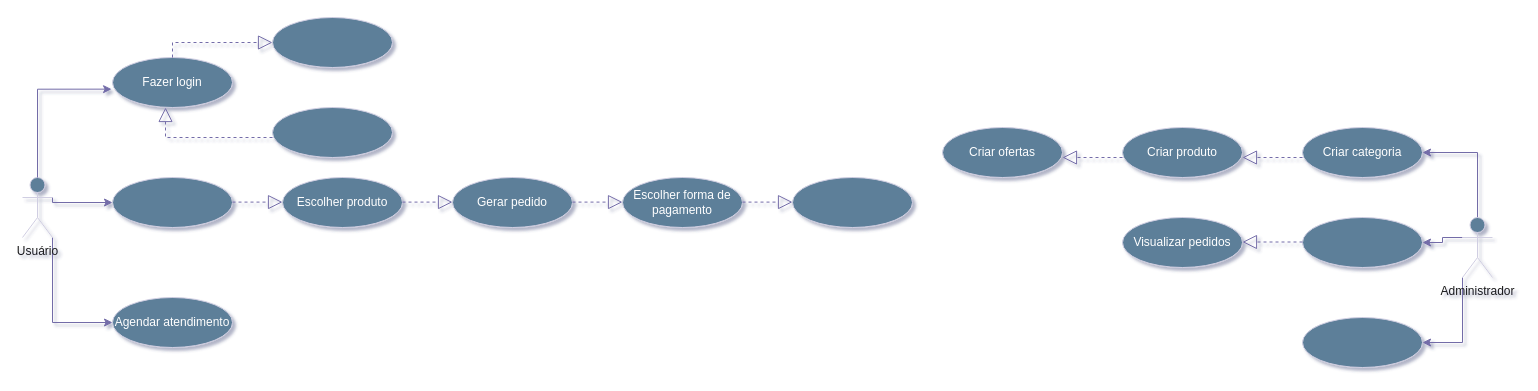
This 1538x391 diagram has some shape labels left out. The shapes that lost their labels are listed below. From the top down, each one's box as (x1, y1, x2, y2) in pixels, then its label:
(272, 16, 392, 68): Verificar credenciais
(272, 106, 392, 158): Erro de acesso
(112, 176, 232, 228): Pesquisar produtos
(792, 176, 912, 228): Visualizar status de pedido
(1302, 216, 1422, 268): Visualizar agendamentos
(1302, 316, 1422, 368): Visualizar relatórios
